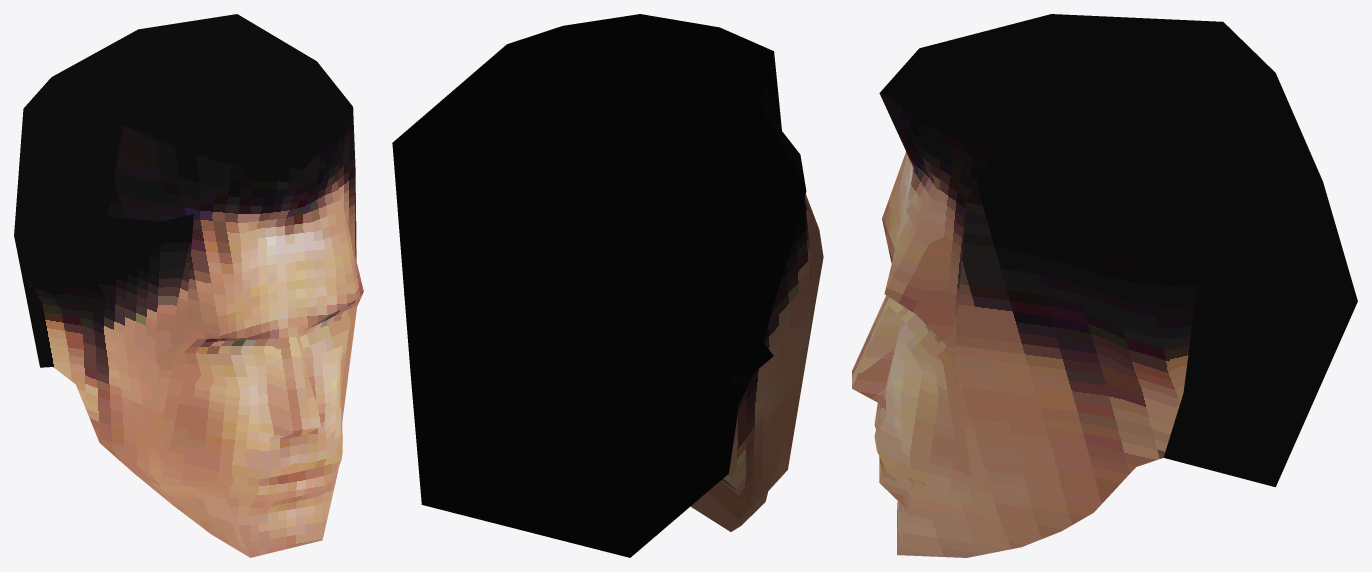
File: CheadbrosnantimberZ.obj
The picture shows the model from 3 angles, left to right: view 1: azimuth 30°, elevation 25°; view 2: azimuth 150°, elevation 25°; view 3: azimuth 270°, elevation 25°; orthographic projection. The views are drawn at different scales.
Size of the model in its own units: 160 by 219 by 203.
Materials: 4 (4 with a texture image).
